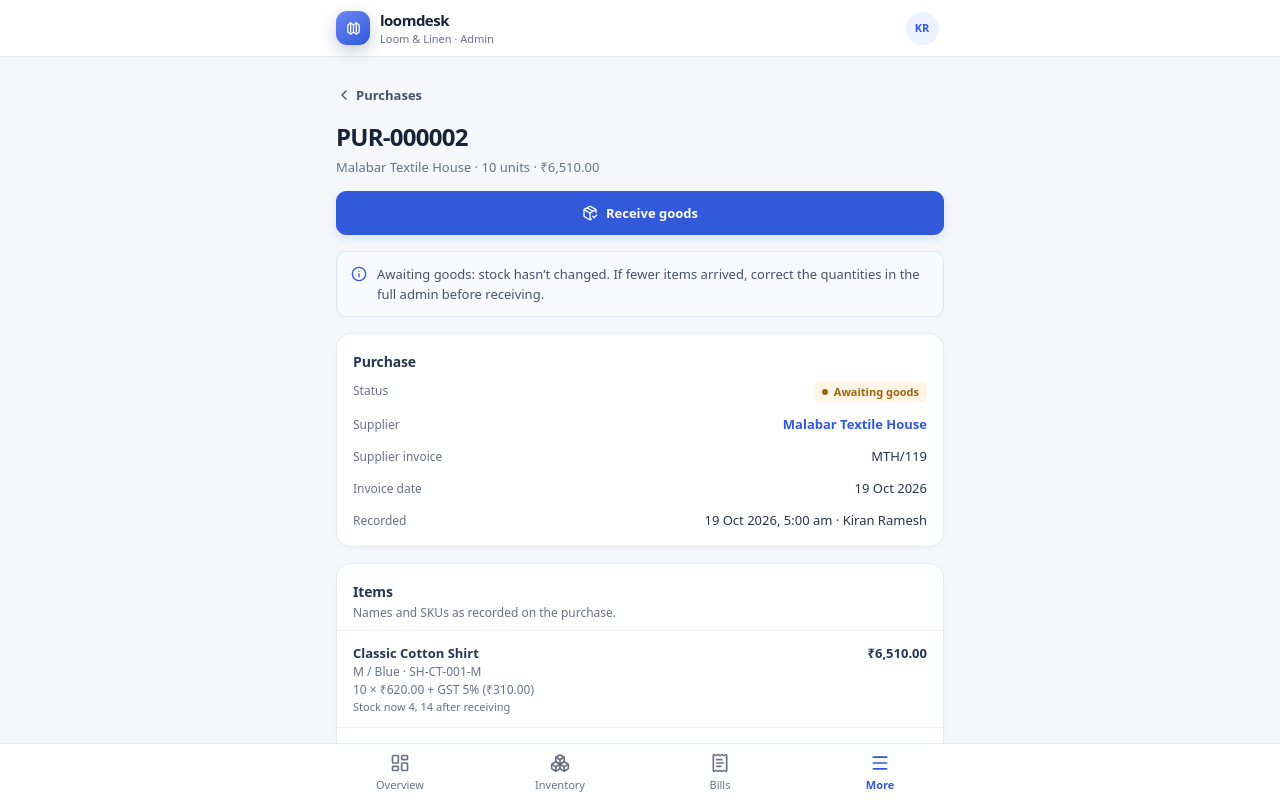
Test: mobile purchasing › shows the stock effect before receiving, and receives once
Click the button "Receive goods": (640, 213) [336, 191, 944, 235]
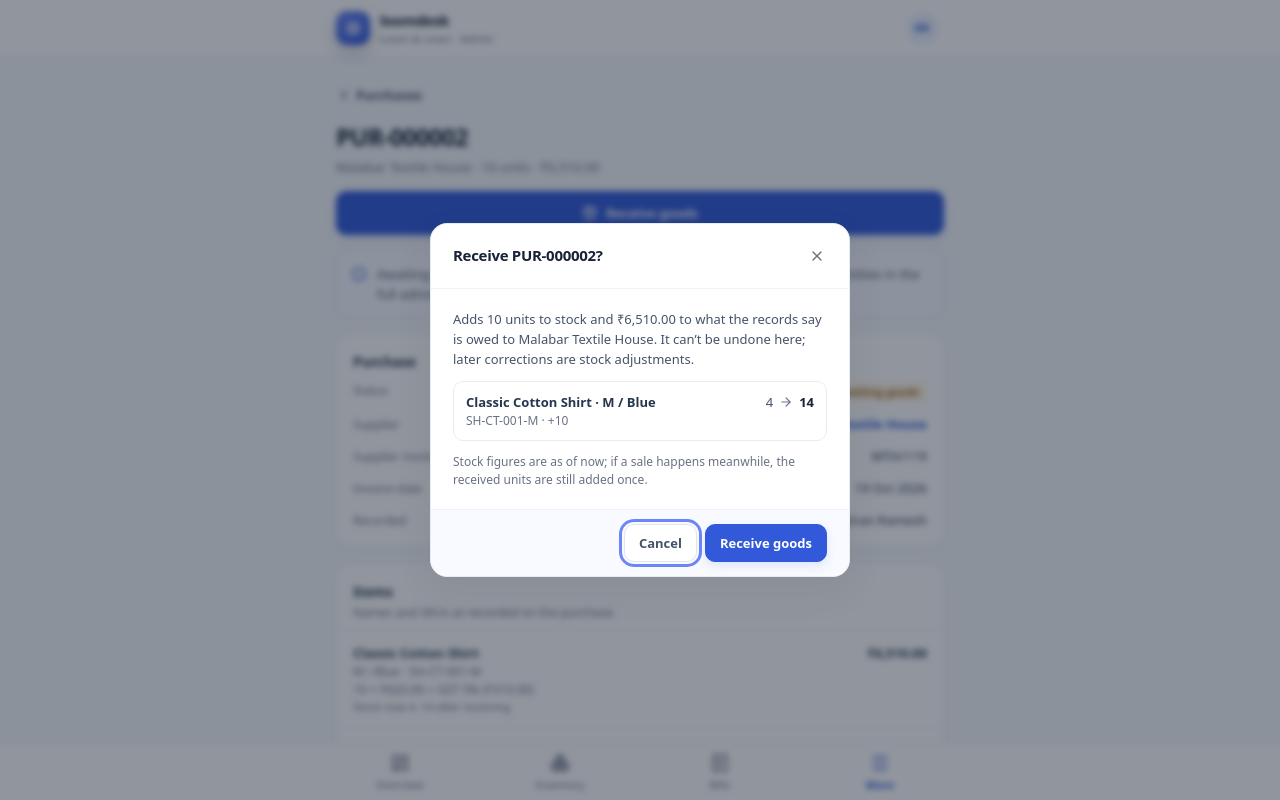
Check: the dialog "Receive PUR-000002?" shows "Adds 10 units to stock and ₹6,510.00", box [430, 223, 850, 577]
Check: the list named "Stock after receiving" shows "4", box [766, 393, 773, 411]
Check: the list named "Stock after receiving" shows "14", box [799, 393, 814, 411]
Click the button "Receive goods": (766, 543) [705, 524, 827, 562]
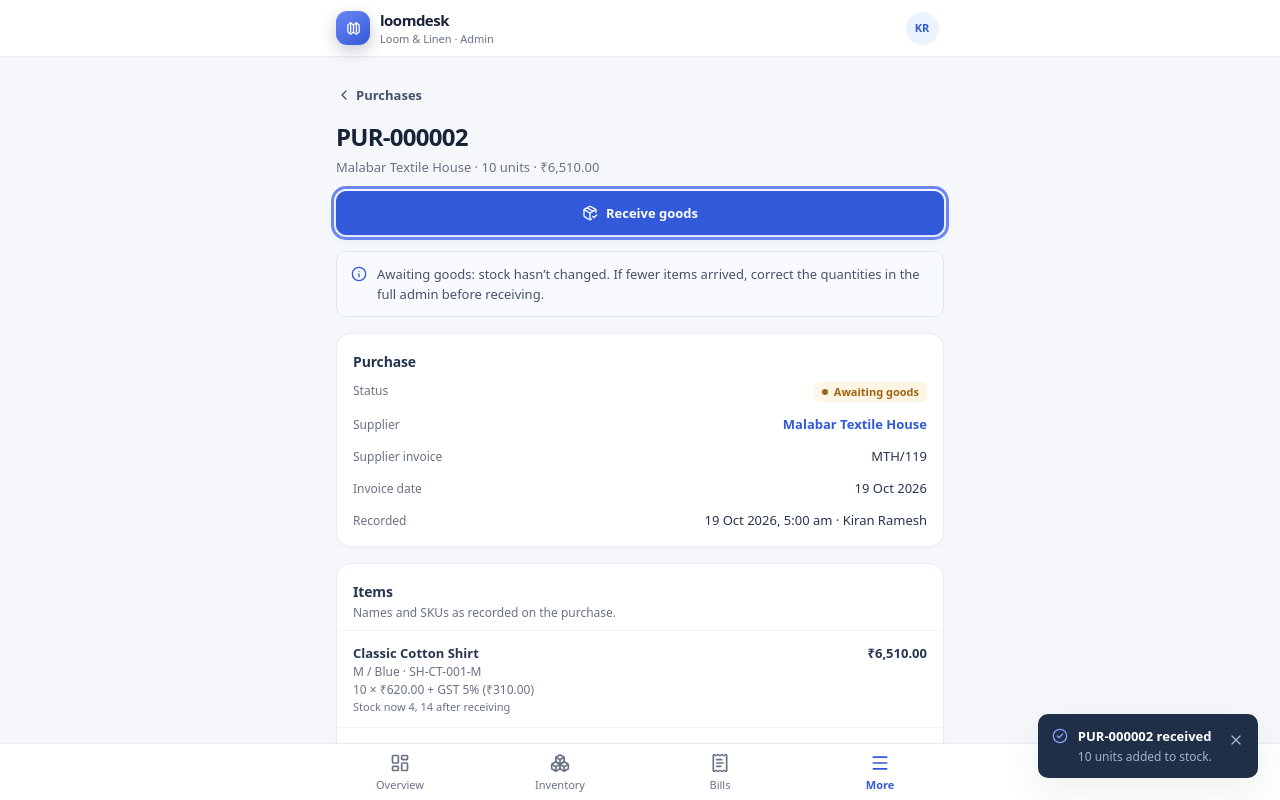
Check: the text "PUR-000002 received" is shown, box [1078, 726, 1212, 746]
